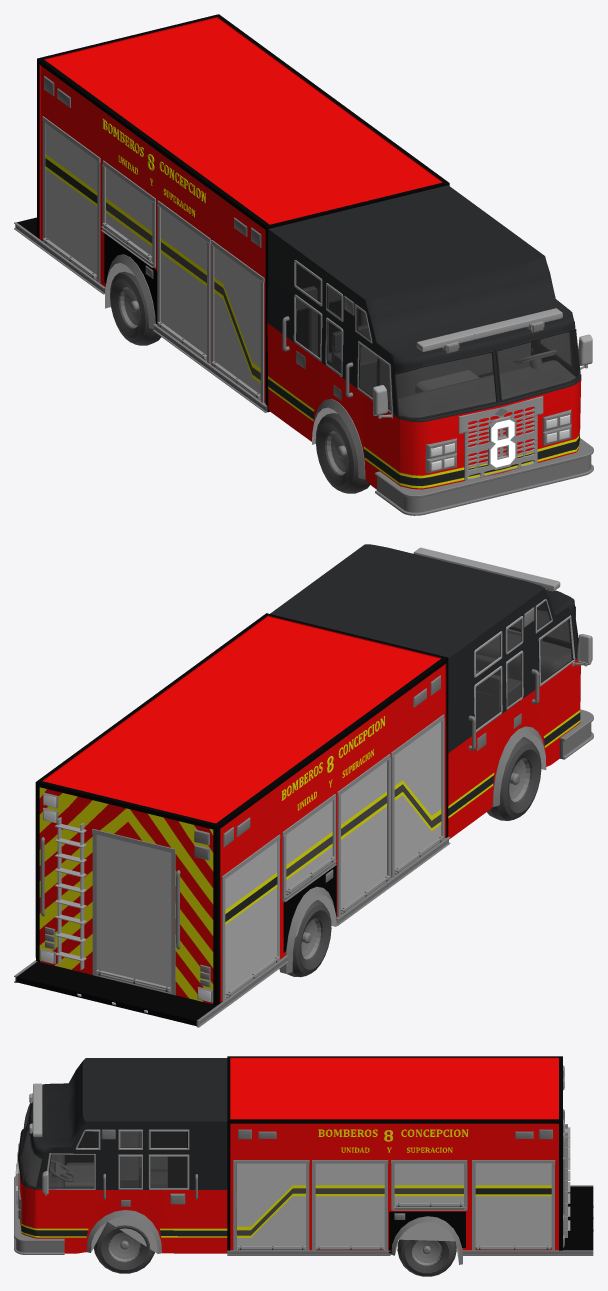
Rendered from carro.glb.
3 views of the same model, one above another, from view 1: azimuth 30°, elevation 25°; view 2: azimuth 150°, elevation 25°; view 3: azimuth 270°, elevation 25° (orthographic). The views are drawn at different scales.
Parts seen in each view (by area): view 1: ParteDelantera, carroceria, pPlane18, polySurface10, parachoque, polySurface4, polySurface6, pCube36, TOPparachoque, pTorus3, polySurface8, pTorus1 (+14 smaller); view 2: carroceria, ParteDelantera, detras, pPlane2, polySurface10, polySurface4, polySurface6, barrabajaTrasera, pTorus3, polySurface8, pTorus1, pCube36 (+14 smaller); view 3: carroceria, ParteDelantera, polySurface9, polySurface5, polySurface3, polySurface7, pTorus4, pTorus2, barrabajaTrasera, rueda2, pPlane10, rueda (+26 smaller).
Part boxes in pixels (x1,y1,x2,y2): ParteDelantera: (267,185,581,489); carroceria: (37,14,449,412); pPlane18: (396,331,578,420); polySurface10: (45,123,97,280); parachoque: (375,438,593,515); polySurface4: (214,247,260,399); polySurface6: (161,208,206,360); pCube36: (388,360,575,417); TOPparachoque: (458,396,543,480); pTorus3: (315,413,370,493); polySurface8: (106,167,152,260); pTorus1: (110,271,161,345); carroceria: (35,613,448,1005); ParteDelantera: (270,544,580,839); detras: (39,787,213,1004); pPlane2: (96,834,171,993); polySurface10: (225,841,277,998); polySurface4: (394,721,441,874); polySurface6: (341,761,386,911); barrabajaTrasera: (16,962,222,1025); pTorus3: (487,737,541,820); polySurface8: (286,801,332,892); pTorus1: (287,900,331,977); pCube36: (476,633,571,681); carroceria: (227,1056,562,1254); ParteDelantera: (18,1058,227,1253); polySurface9: (475,1163,551,1247); polySurface5: (315,1163,384,1249); polySurface3: (237,1163,305,1249); polySurface7: (394,1163,463,1206); pTorus4: (93,1221,154,1273); pTorus2: (397,1239,456,1276); barrabajaTrasera: (563,1186,593,1250); rueda2: (87,1210,161,1253); pPlane10: (48,1155,93,1187); rueda: (391,1216,462,1264).
Bounding box in the file's own units: 3.3 × 3.14 × 10.43.
